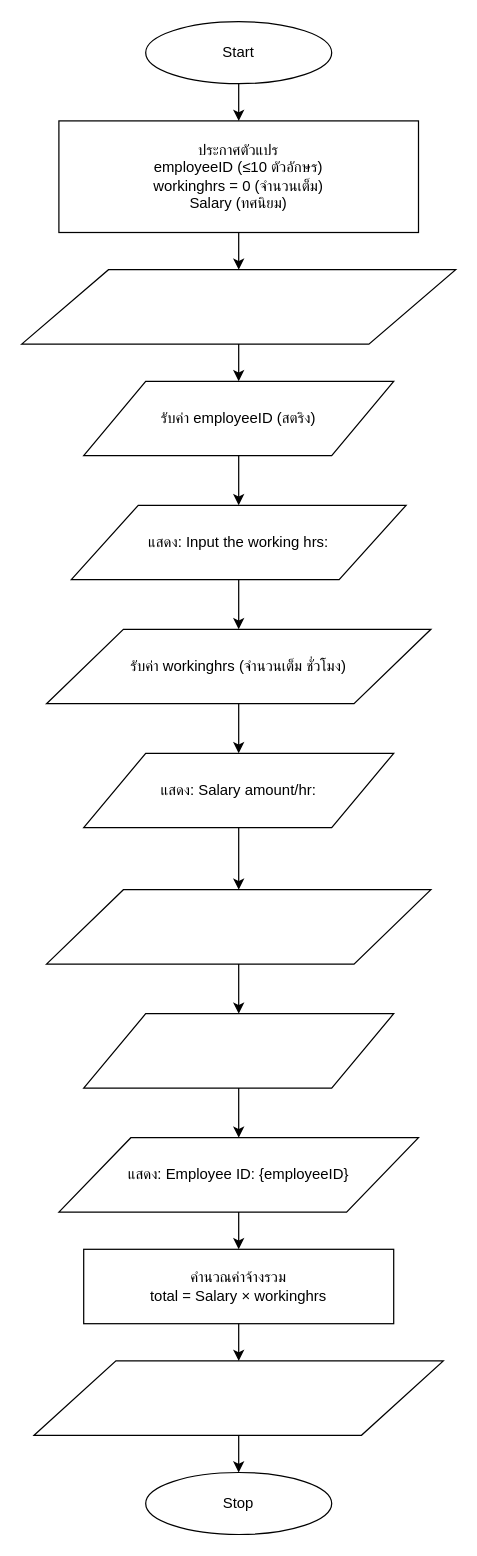
Some shapes in this 477 by 1556 pixel diagram are drawn without their labels. Here are the shapes that lost their labels. From the top down, the centre of each, then its label:
the point at 238,306: แสดง: Input the Employees ID (Max. 10 chars):
the point at 238,926: รับค่า Salary (ทศนิยม บาท/ชั่วโมง)
the point at 238,1050: แสดงหัวข้อผลลัพธ์ Expected Output:
the point at 238,1397: แสดง: Salary = U$ {total} (ทศนิยม 2 ตำแหน่ง)
